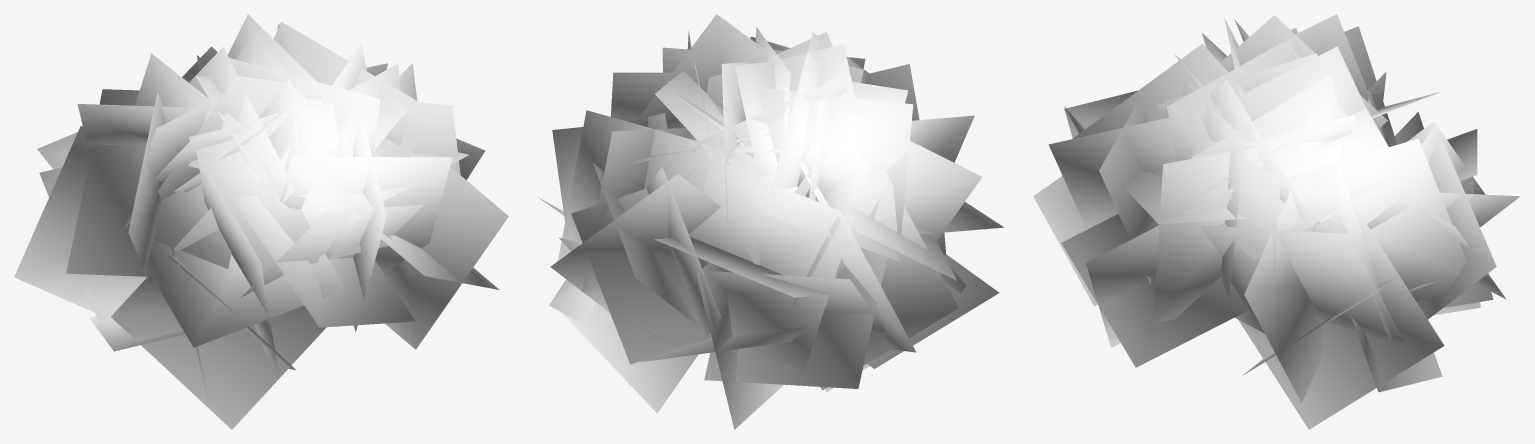
Rendered from test bush2.fbx.
3 renders of one model, left to right at view 1: azimuth 30°, elevation 25°; view 2: azimuth 150°, elevation 25°; view 3: azimuth 270°, elevation 25°, orthographic. The views are drawn at different scales.
Visible parts, largest first — view 1: Bush; view 2: Bush; view 3: Bush.
Boxes of the visible parts, x1=… form: Bush: x1=14, y1=14, x2=508, y2=429; Bush: x1=538, y1=14, x2=1003, y2=429; Bush: x1=1033, y1=14, x2=1520, y2=429.
Bounding box in the file's own units: 237 × 184 × 242.
